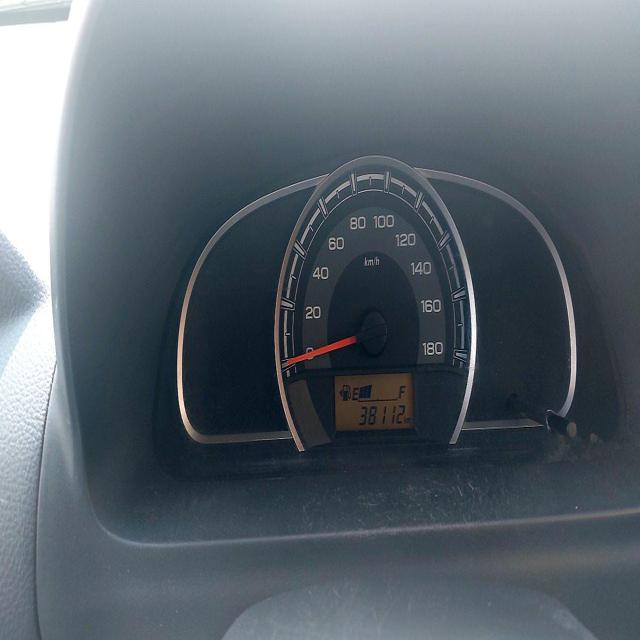odometer: (357, 400, 407, 428)
